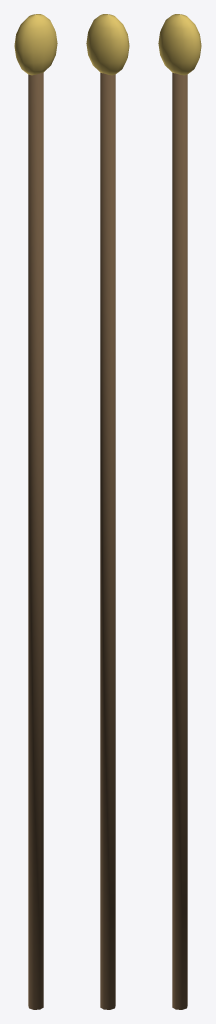
The model's file is Pole.glb.
The picture shows the model from 3 angles, left to right: view 1: azimuth 30°, elevation 25°; view 2: azimuth 150°, elevation 25°; view 3: azimuth 330°, elevation 25°; orthographic projection.
Parts seen in each view (by area): view 1: lamplighter__Pole__wood, lamplighter__Pole__flame; view 2: lamplighter__Pole__wood, lamplighter__Pole__flame; view 3: lamplighter__Pole__wood, lamplighter__Pole__flame.
Boxes of the visible parts, x1,y1,x2,y2 form: lamplighter__Pole__wood: (28,73,43,1009); lamplighter__Pole__flame: (14,14,57,75); lamplighter__Pole__wood: (100,73,115,1009); lamplighter__Pole__flame: (86,14,129,75); lamplighter__Pole__wood: (172,73,187,1009); lamplighter__Pole__flame: (158,14,201,75).
Bounding box in the file's own units: 0.07 × 1.65 × 0.05.
